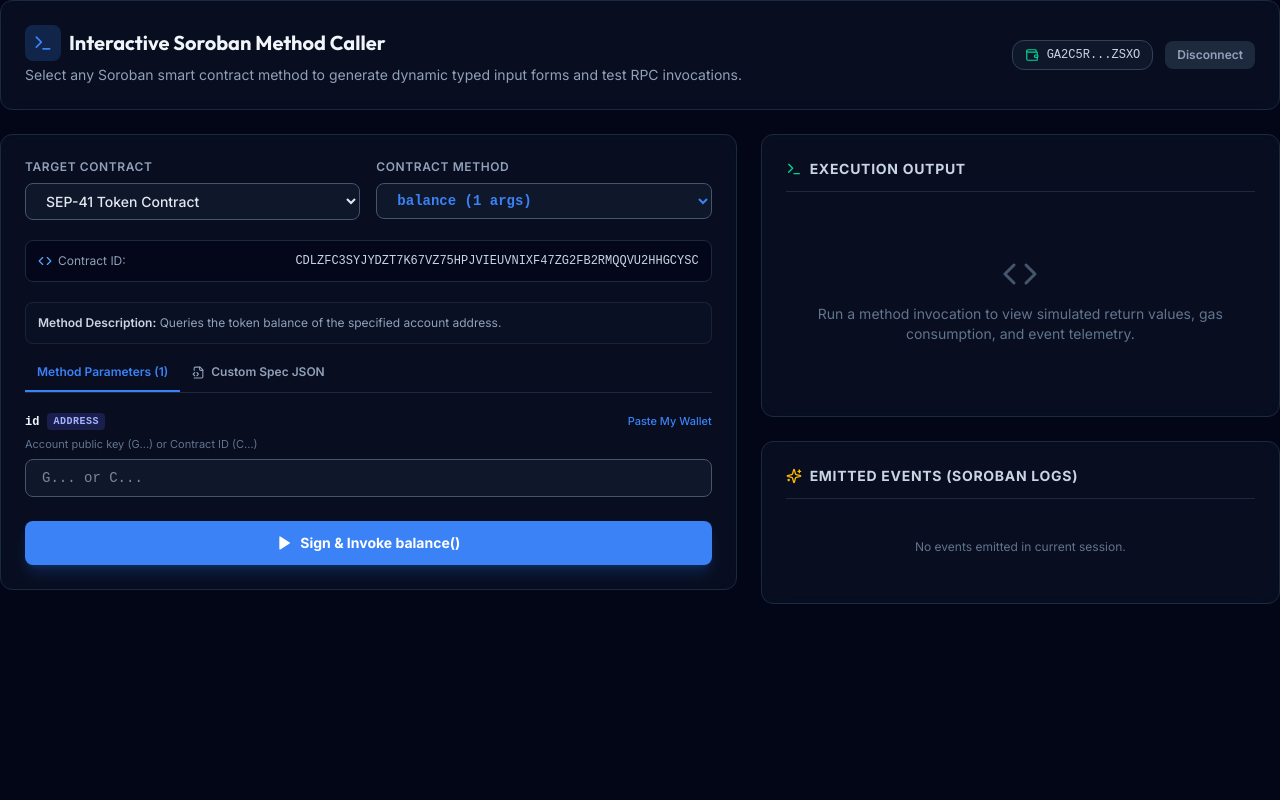
Test: ContractPlayground - Interactive Soroban Contract Method Caller UI › ContractPlayground component UI & Form Generation › displays error and halts execution if argument validation fails
Click the button with test id "invoke-method-btn" at point(368, 543), box [25, 521, 712, 565]
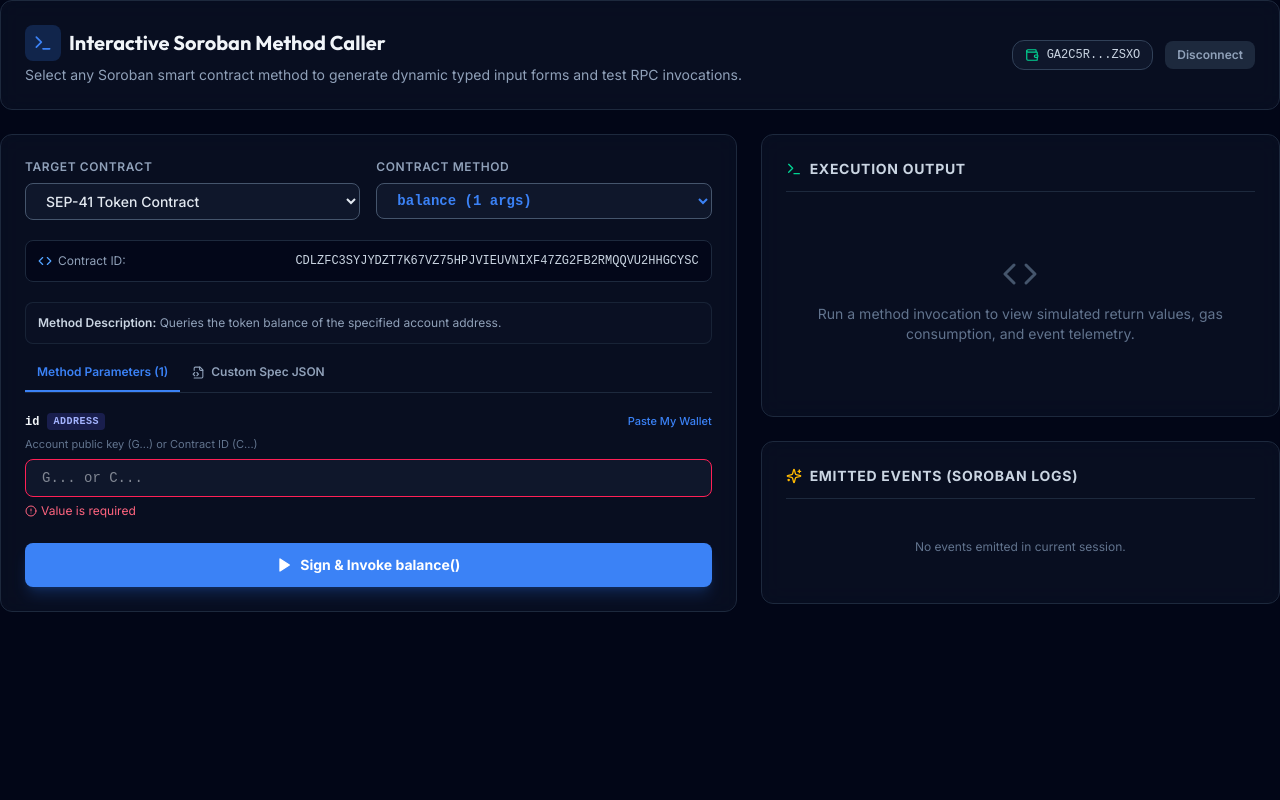
Result: the text "Value is required" is shown at [25, 503, 136, 518]
